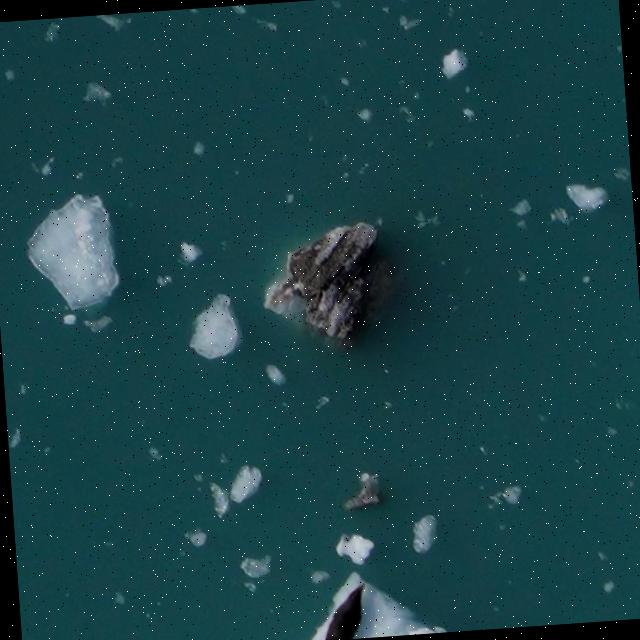seal: (320, 577, 375, 640)
